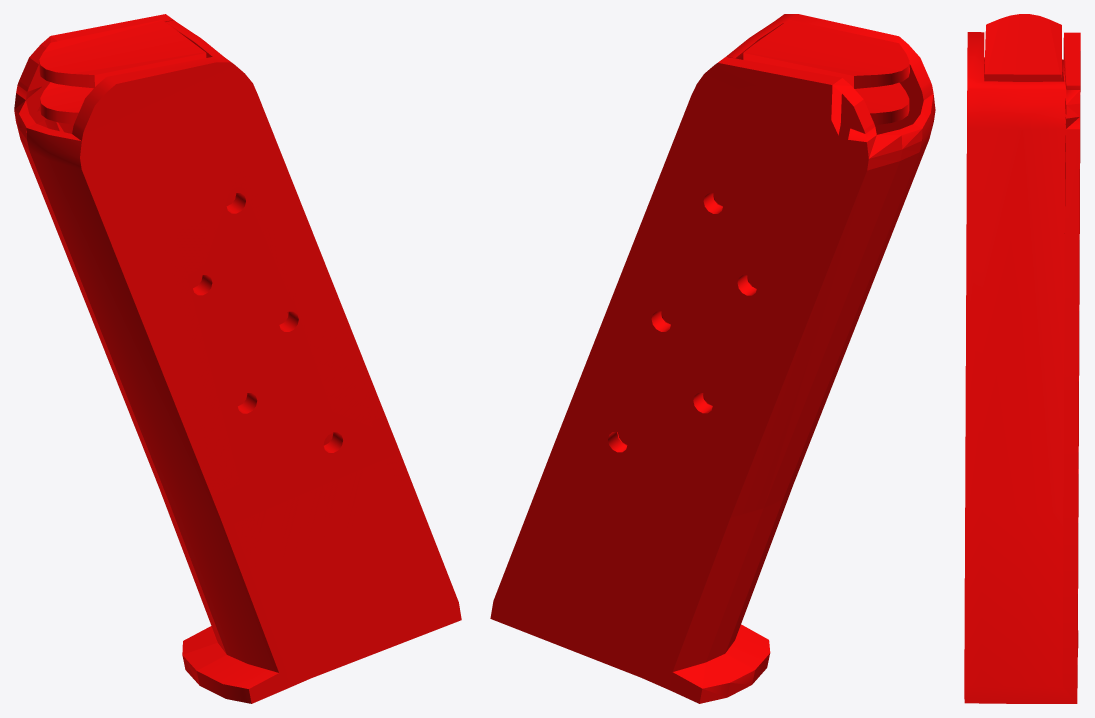
Rendered from m1911Magfbx.fbx.
3 views of the same model, side by side, from view 1: azimuth 30°, elevation 25°; view 2: azimuth 150°, elevation 25°; view 3: azimuth 270°, elevation 25° (orthographic). The views are drawn at different scales.
Parts seen in each view (by area): view 1: Mag001, MagPush; view 2: Mag001, MagPush; view 3: Mag001, MagPush.
Boxes of the visible parts, x1,y1,x2,y2 form: Mag001: (14,14,461,703); MagPush: (39,20,206,124); Mag001: (490,14,935,703); MagPush: (743,19,909,125); Mag001: (964,32,1080,703); MagPush: (984,14,1061,81).
Bounding box in the file's own units: 14.35 × 22.39 × 4.21.
